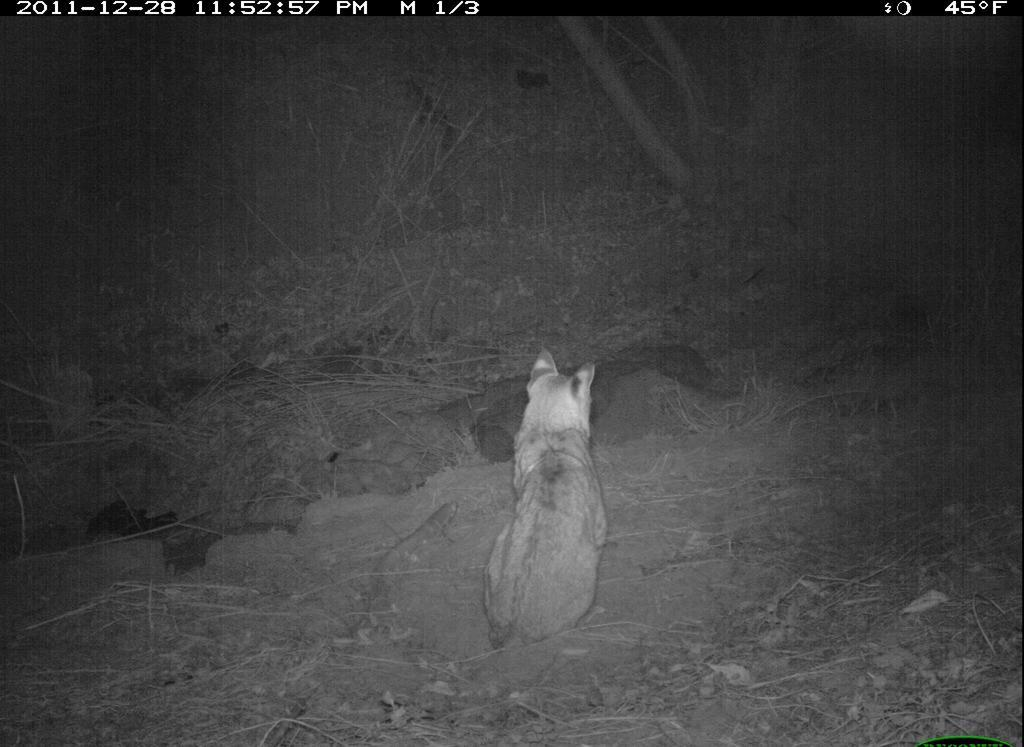bobcat: (473, 322, 623, 660)
